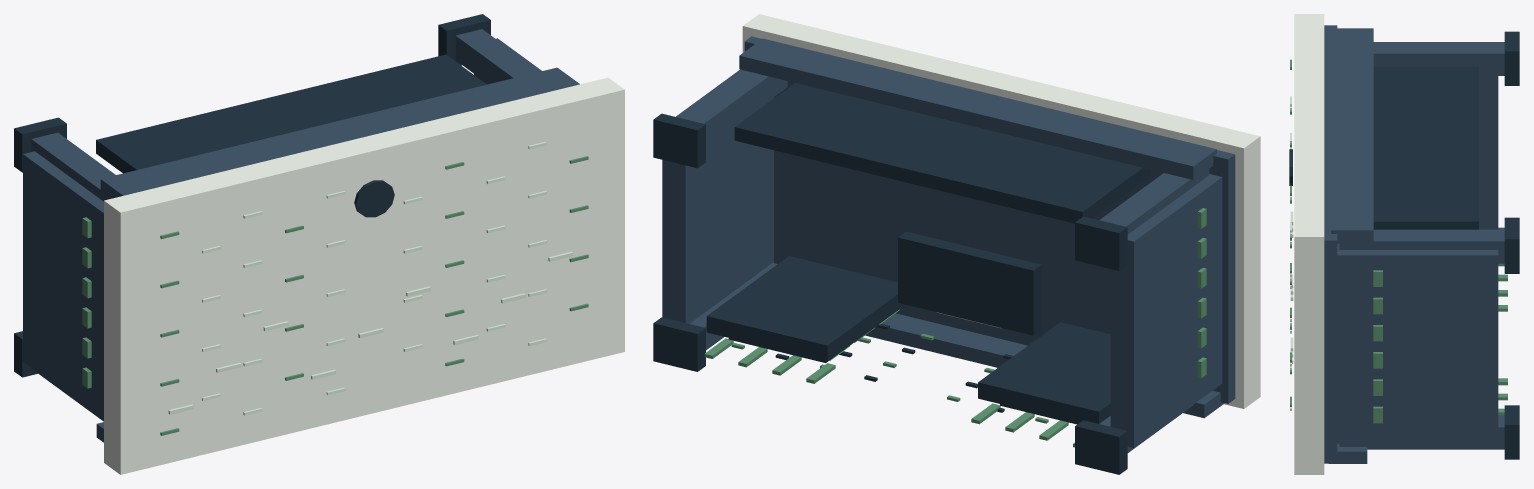
The model's file is desk.glb.
The picture shows the model from 3 angles, left to right: view 1: azimuth 30°, elevation 25°; view 2: azimuth 150°, elevation 25°; view 3: azimuth 270°, elevation 25°; orthographic projection. The views are drawn at different scales.
Parts seen in each view (by area): view 1: desk; view 2: desk; view 3: desk.
Part boxes in pixels (left/top/right/bottom): desk: left=14, top=14, right=624, bottom=474; desk: left=653, top=14, right=1260, bottom=474; desk: left=1289, top=14, right=1519, bottom=474.
Size of the model in its own units: 1.65 by 0.82 by 0.72.
